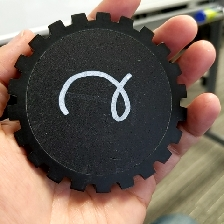gear: (6, 11, 189, 195)
